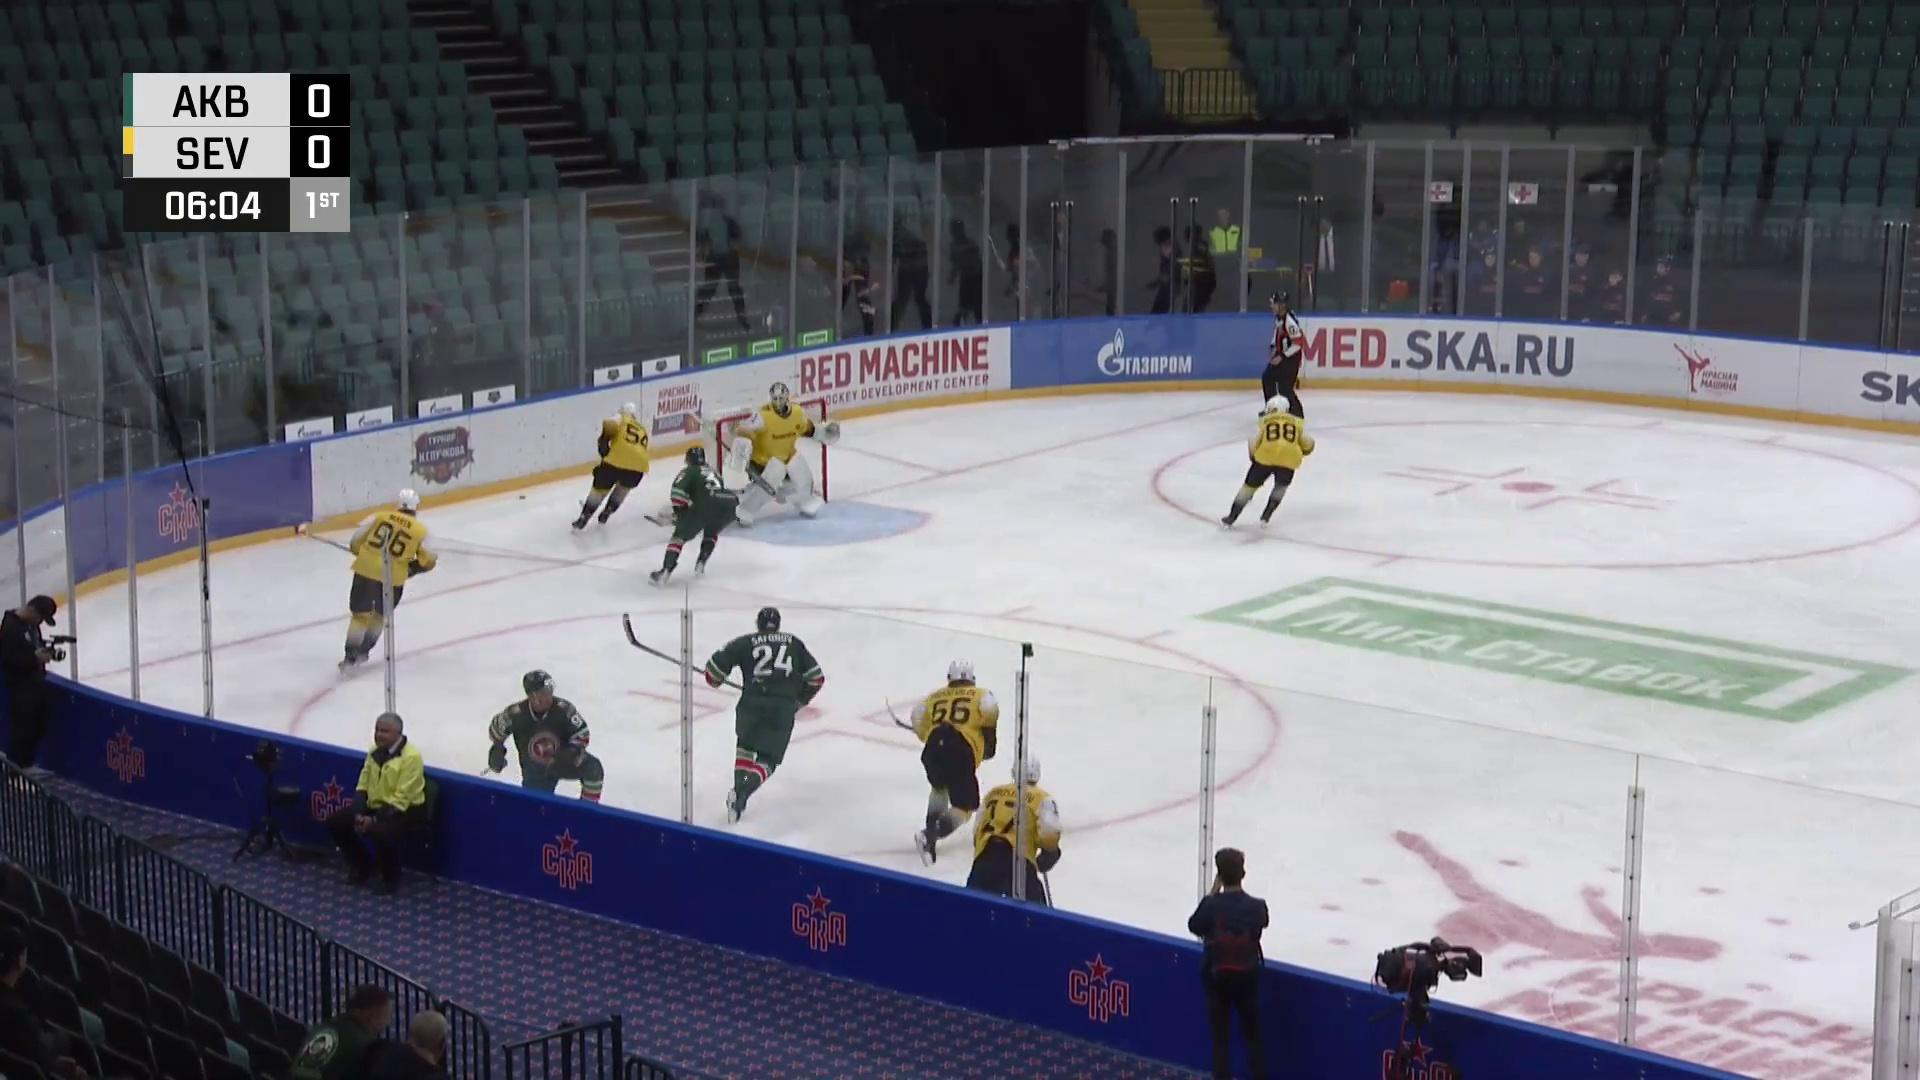ball: (518, 495, 526, 501)
